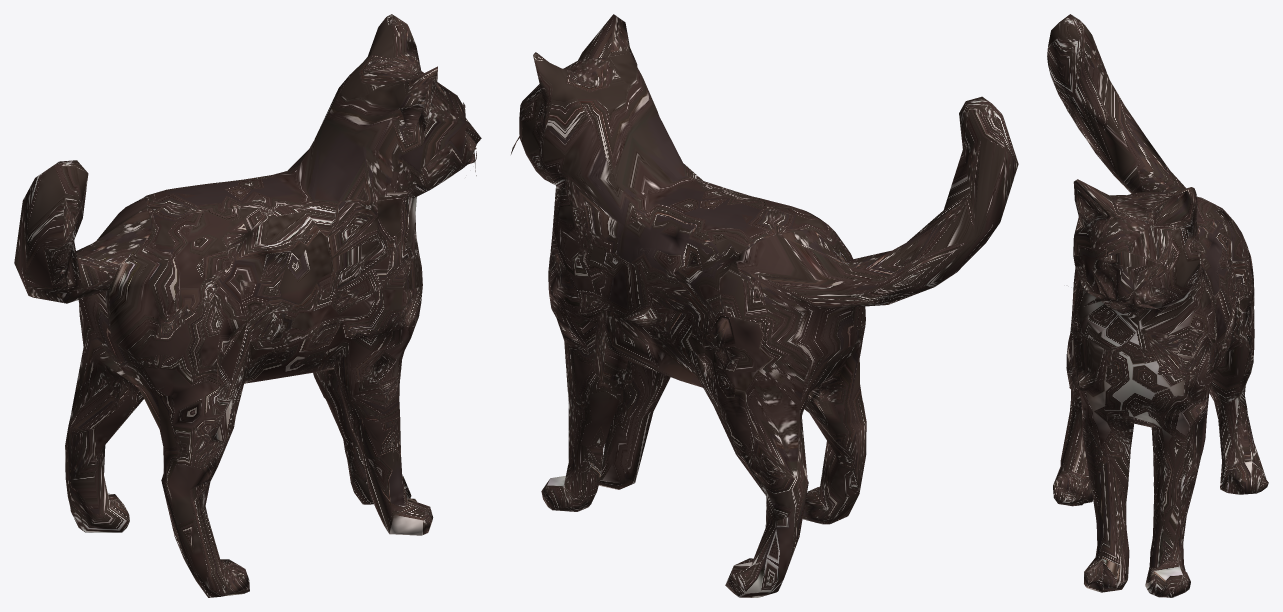
The model's file is TRIMCAT-lo.glb.
3 views of the same model, side by side, from view 1: azimuth 30°, elevation 25°; view 2: azimuth 150°, elevation 25°; view 3: azimuth 270°, elevation 25° (orthographic). The views are drawn at different scales.
Parts seen in each view (by area): view 1: material; view 2: material; view 3: material.
Boxes of the visible parts, bbox=[...] form: material: bbox=[14, 14, 481, 597]; material: bbox=[511, 14, 1018, 597]; material: bbox=[1047, 14, 1268, 597].
Bounding box in the file's own units: 1.07 × 0.9938 × 0.4855.
1 material, 1 textured.
